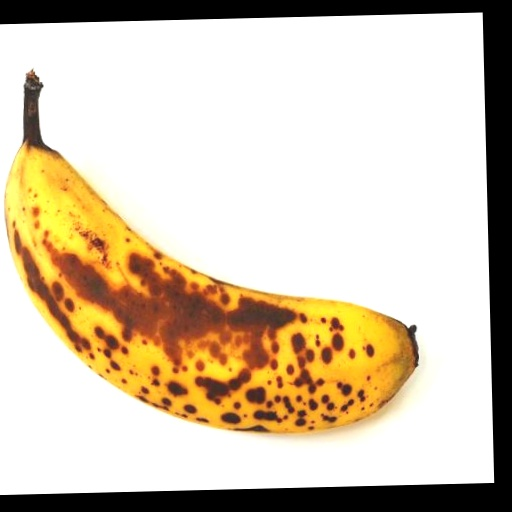fruit: (6, 71, 418, 432)
